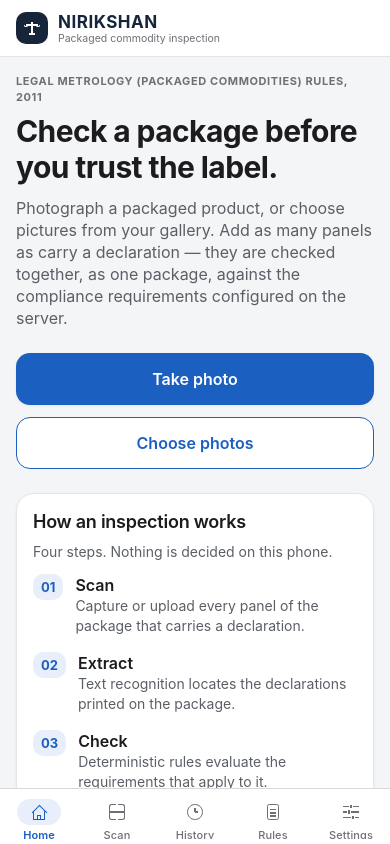
Test: the scan flow › goes Home -> Scan -> Analysis -> Result and shows the backend verdict
The image size is (390, 844).
Click the button with test id "take-photo" at [195, 379], box 16,353 -> 374,405
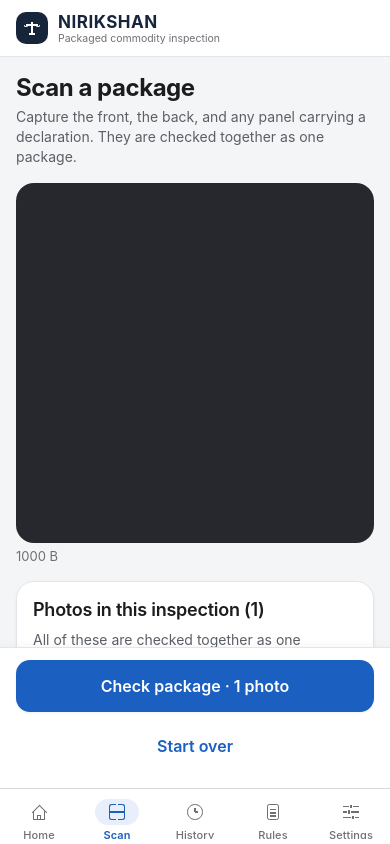
Expected: the element with test id "scan-screen" is shown
Click the button with test id "check-package" at [195, 686], box 16,660 -> 374,712
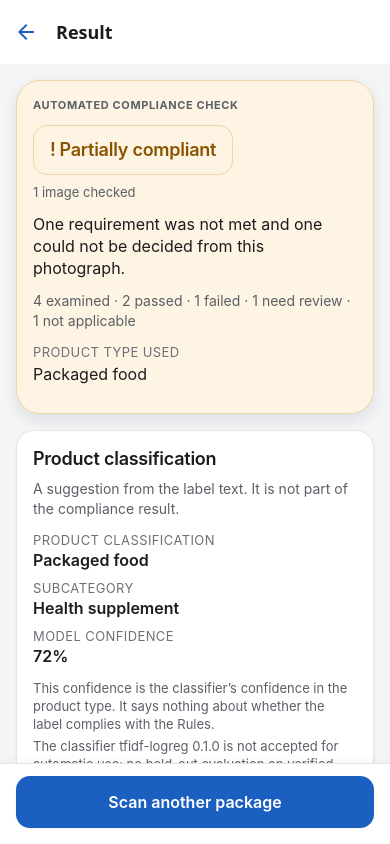
Expected: the element with test id "result-screen" is shown
Expected: the element with test id "verdict-badge" shows "Partially compliant", 60,139 -> 216,160
Expected: the text with test id "classification-category" reads "Packaged food", 33,550 -> 149,570
